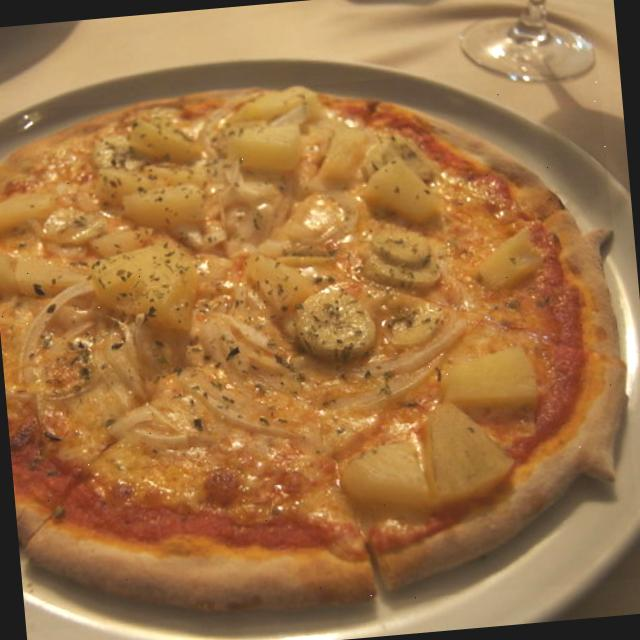pizza: (0, 86, 624, 610)
